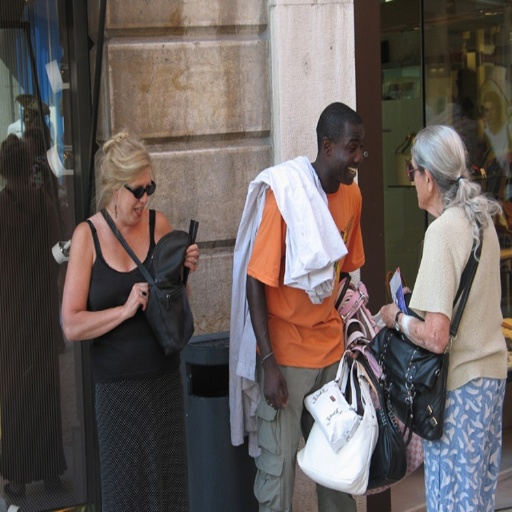hand: (260, 365, 288, 411), (124, 278, 150, 313), (376, 301, 401, 331), (181, 240, 202, 274), (344, 332, 361, 361), (401, 284, 411, 298)
